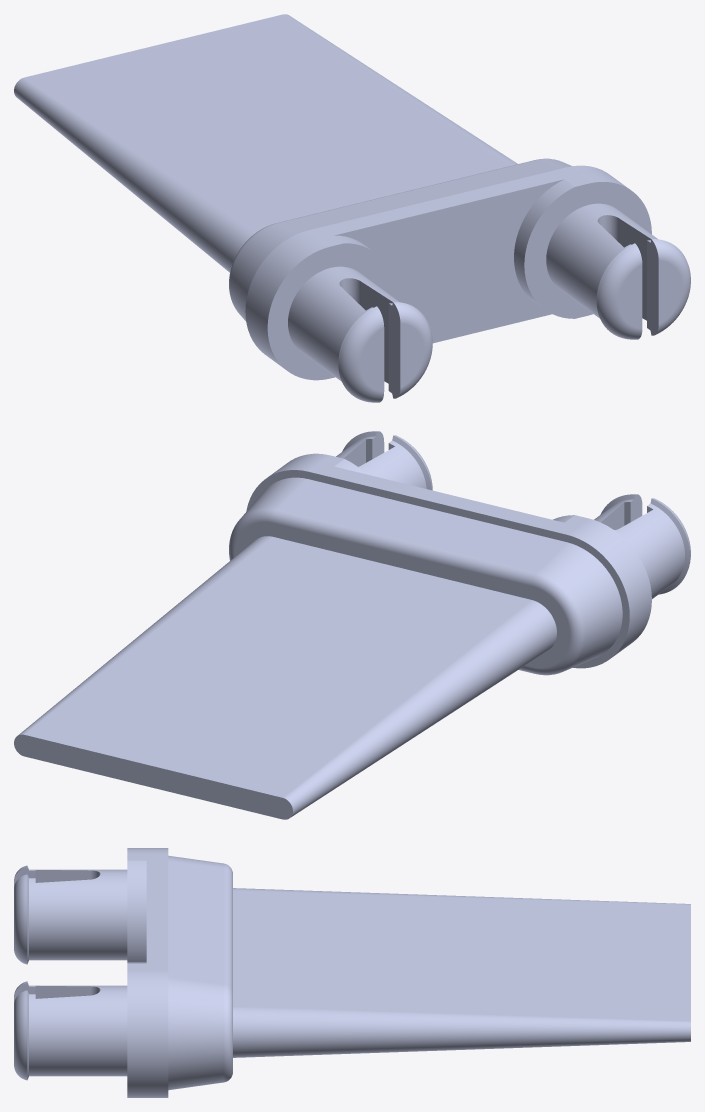
3 views of the same model, one above another, from view 1: azimuth 30°, elevation 25°; view 2: azimuth 150°, elevation 25°; view 3: azimuth 270°, elevation 25° (orthographic). The views are drawn at different scales.
Visible parts, largest first — view 1: NAUO2, NAUO1; view 2: NAUO2, NAUO1; view 3: NAUO2, NAUO1.
Part boxes in pixels (bbox=[...]): NAUO2: bbox=[14, 14, 571, 321]; NAUO1: bbox=[245, 165, 690, 402]; NAUO2: bbox=[14, 477, 622, 819]; NAUO1: bbox=[246, 431, 690, 668]; NAUO2: bbox=[168, 855, 690, 1090]; NAUO1: bbox=[14, 848, 168, 1097].
Size of the model in its own units: 0.0189 by 0.0062 by 0.0313.
